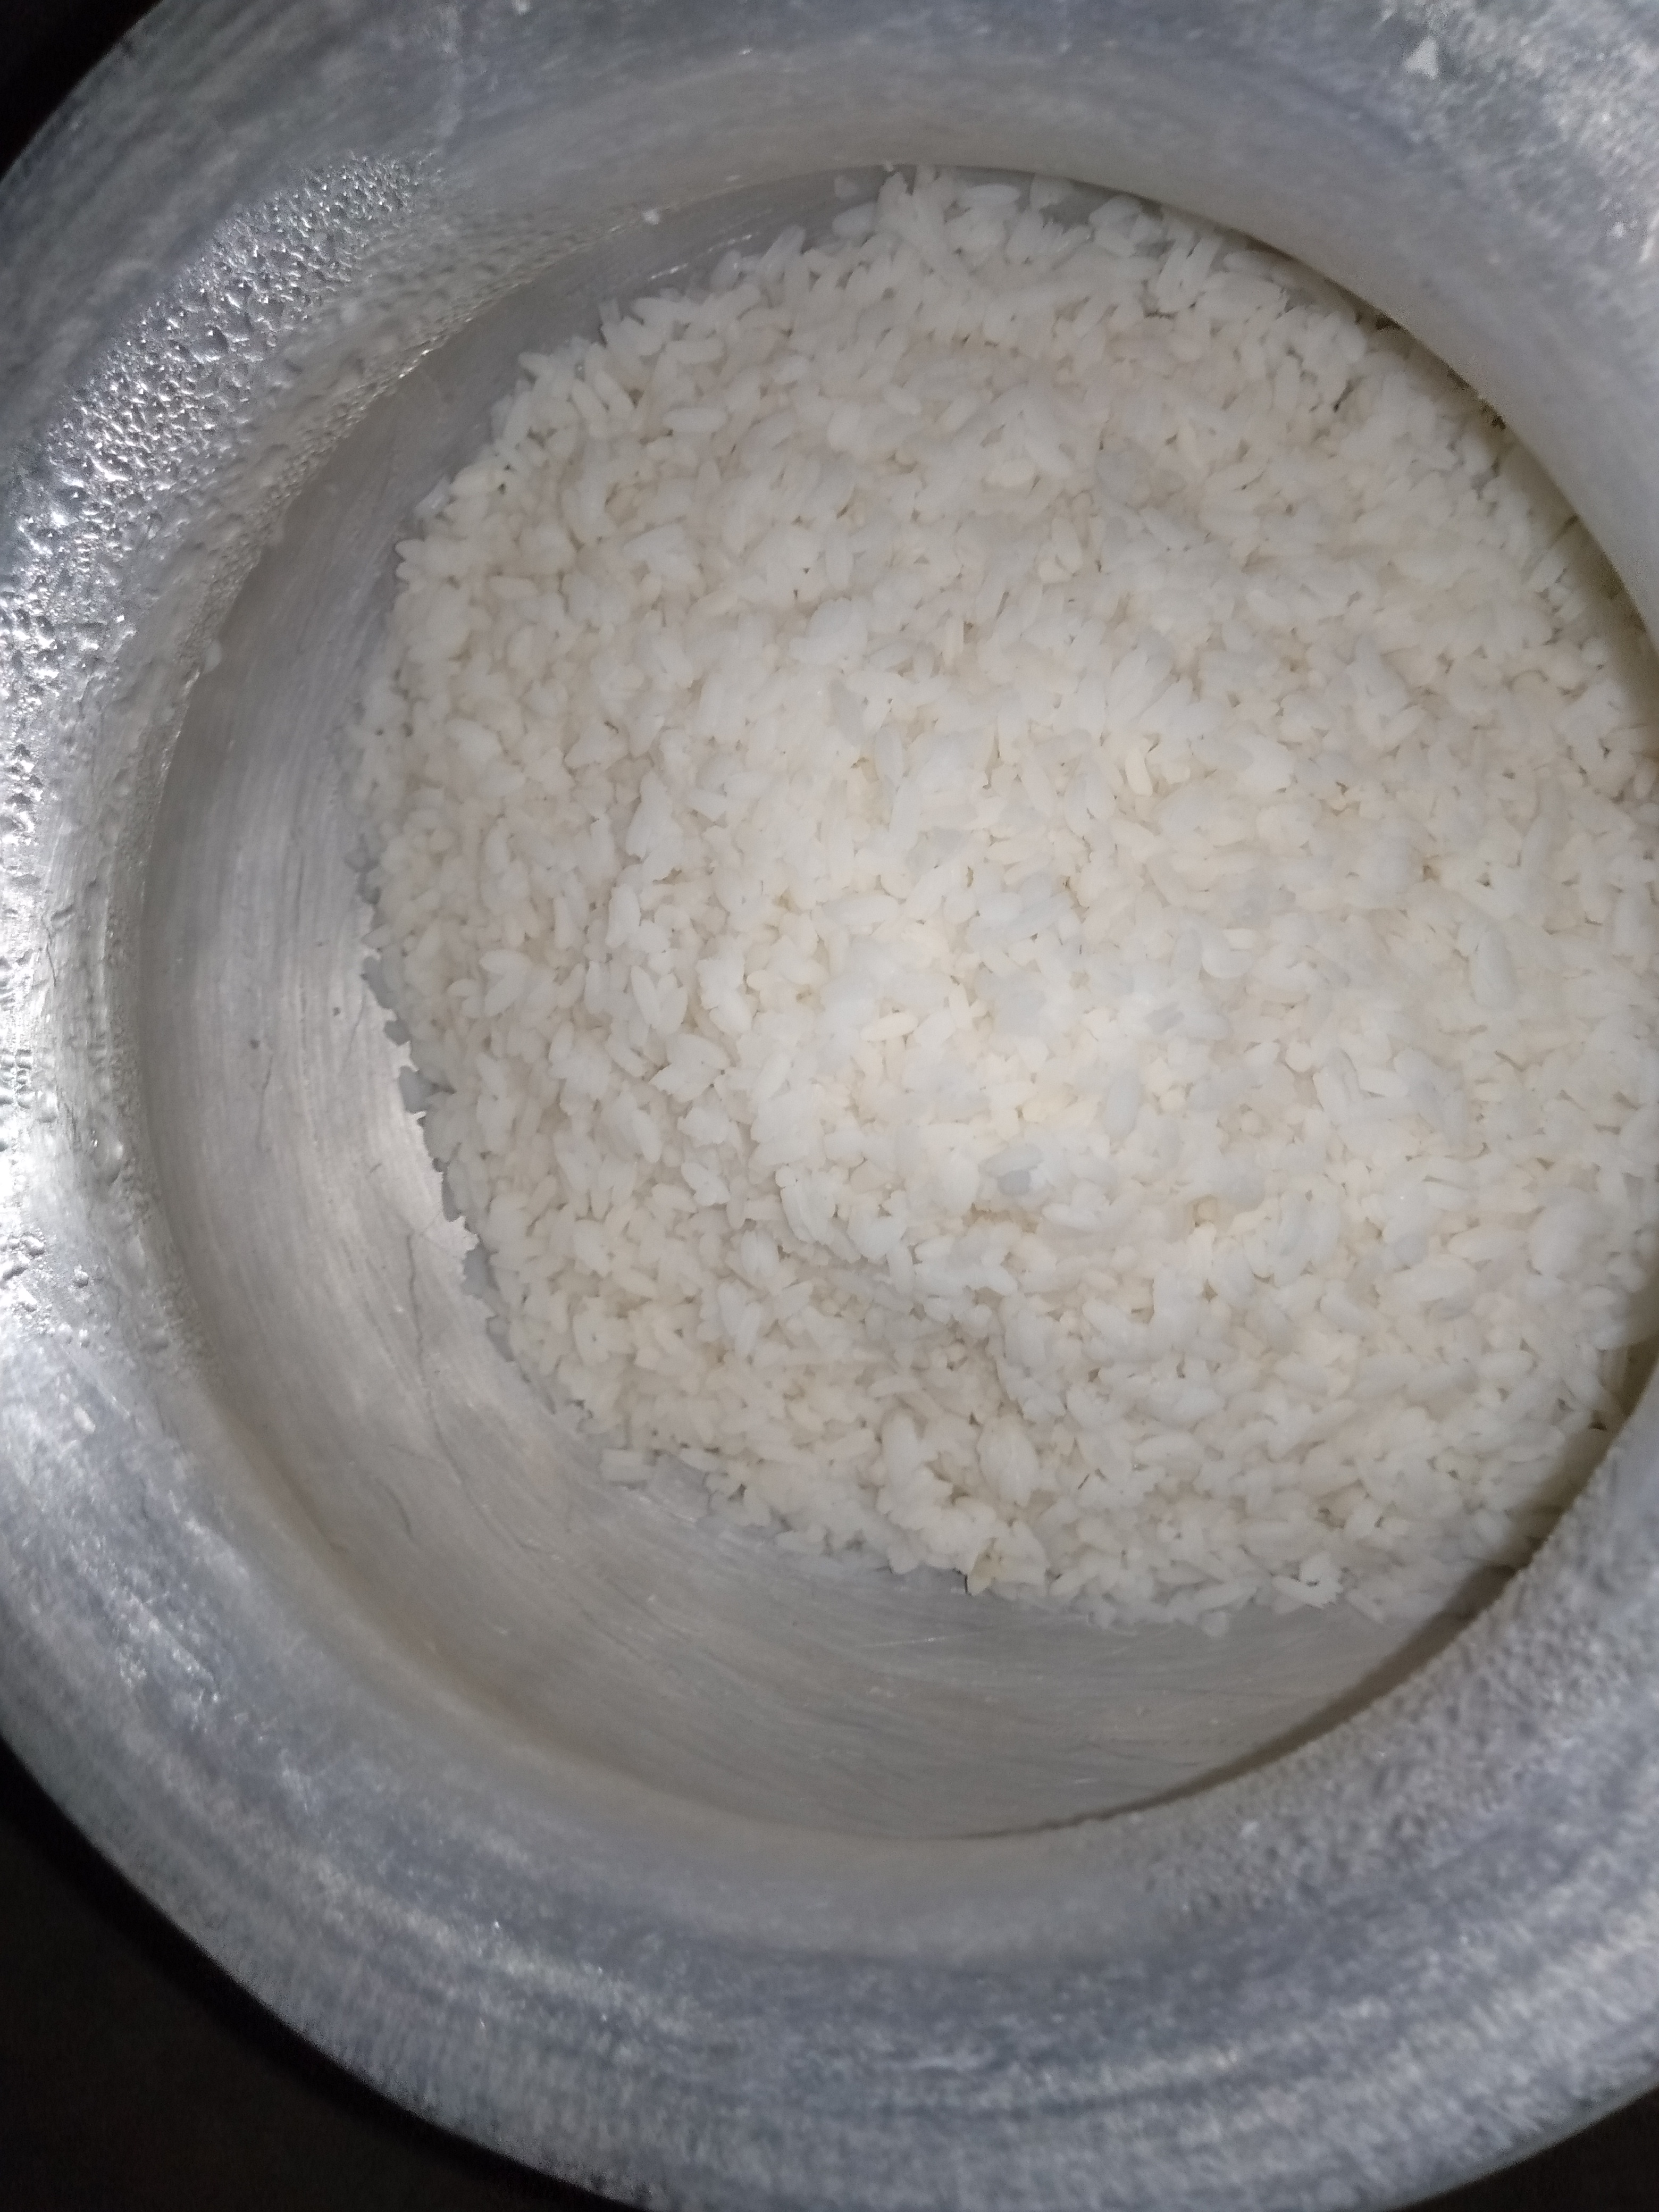food: (333, 145, 1645, 1639)
